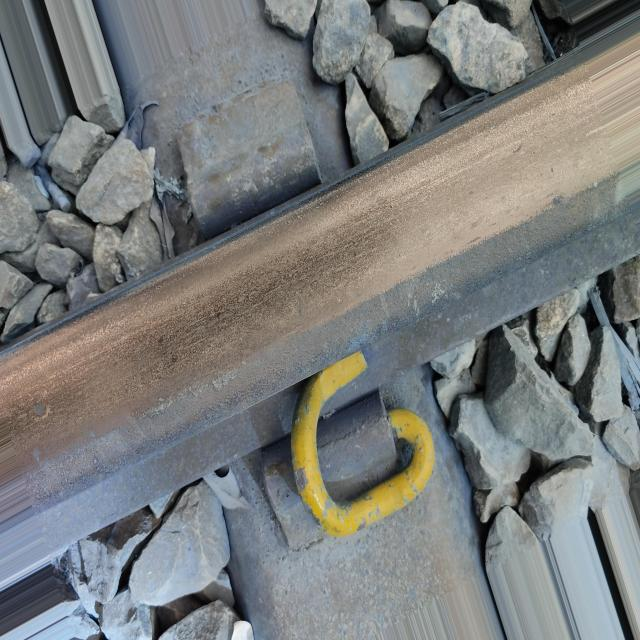Good Fasteners: (264, 352, 435, 550)
Missing Fastener: (176, 81, 320, 236)
